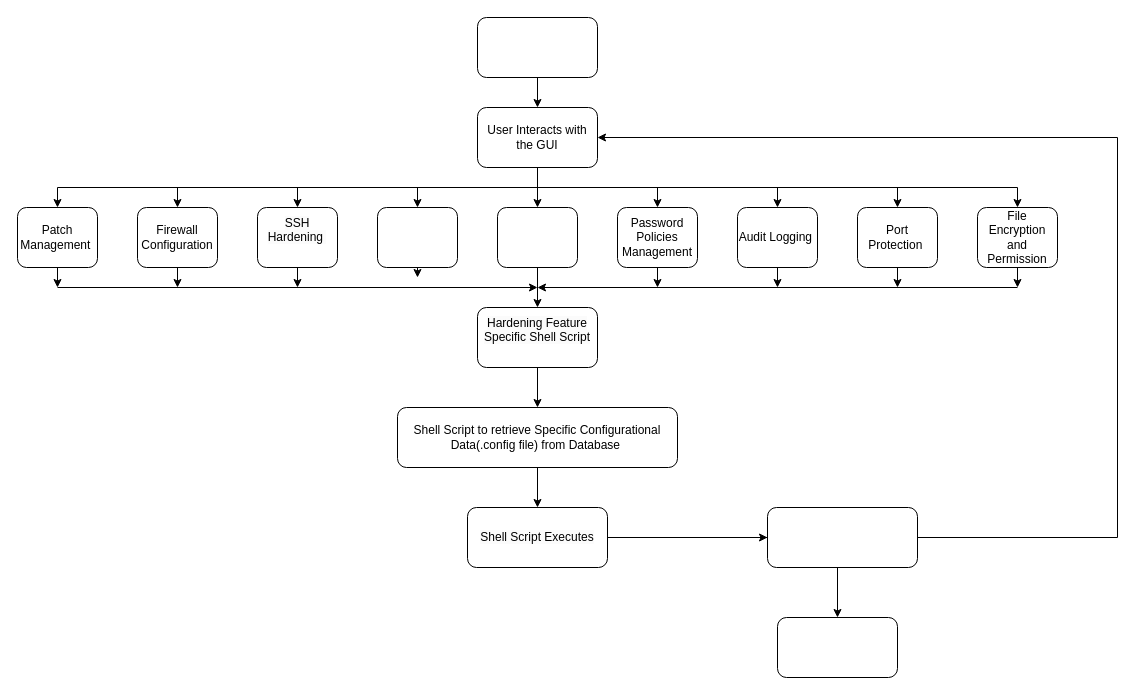
This 1143x695 diagram has some shape labels left out. The shapes that lost their labels are listed below. From the top down, each one's centre as x and y in pixels, then its label:
At [537,47]: "Start".
At [417,237]: "Service Management".
At [537,237]: "User and Group Management".
At [842,537]: "GUI Shows Execution Output".
At [837,647]: "Script Ends".
